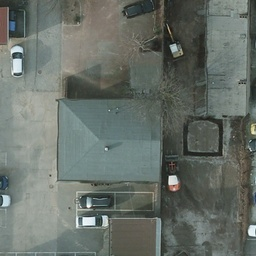car: (124, 0, 158, 21), (75, 214, 109, 230), (79, 195, 115, 210), (10, 45, 25, 78), (0, 194, 12, 208)
van: (0, 174, 9, 191)
